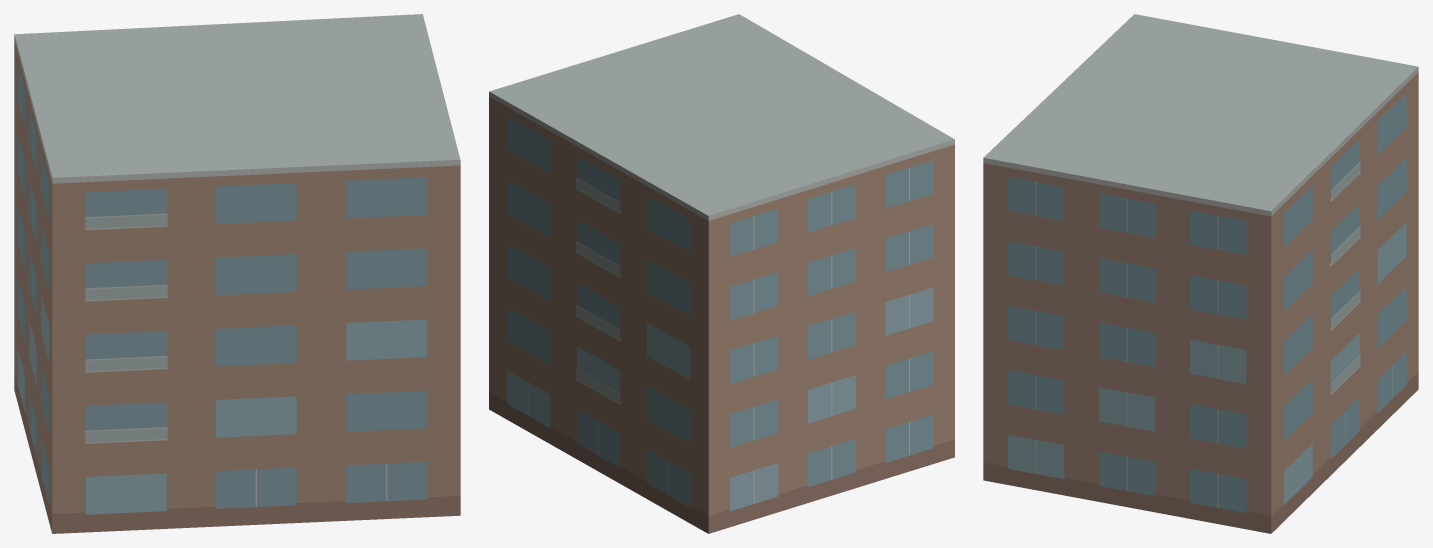
Rendered from survey-upis-32555299.glb.
3 views of the same model, side by side, from view 1: azimuth 30°, elevation 25°; view 2: azimuth 150°, elevation 25°; view 3: azimuth 270°, elevation 25° (orthographic). The views are drawn at different scales.
Parts seen in each view (by area): view 1: survey-upis-32555299.tmp; view 2: survey-upis-32555299.tmp; view 3: survey-upis-32555299.tmp.
Boxes of the visible parts, bbox=[...] form: survey-upis-32555299.tmp: bbox=[14, 14, 460, 533]; survey-upis-32555299.tmp: bbox=[489, 14, 954, 533]; survey-upis-32555299.tmp: bbox=[983, 14, 1418, 533].
Size of the model in its own units: 20 by 15.25 by 18.66.
